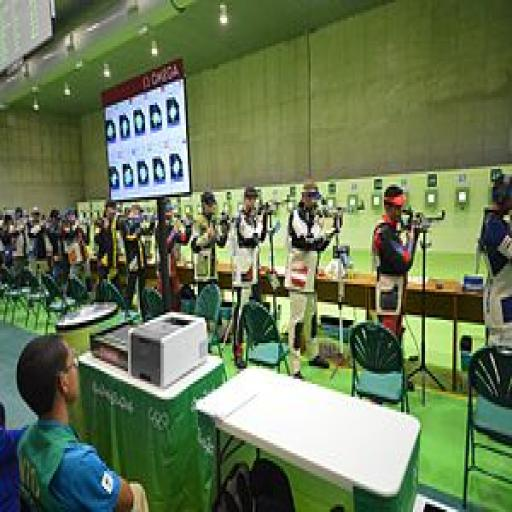shooting: (365, 148, 457, 413), (282, 176, 343, 382), (468, 133, 512, 417), (181, 190, 233, 368), (229, 170, 274, 354), (115, 180, 155, 350), (39, 186, 86, 326), (95, 190, 127, 362), (149, 182, 184, 328), (65, 194, 94, 348), (26, 193, 50, 308)
